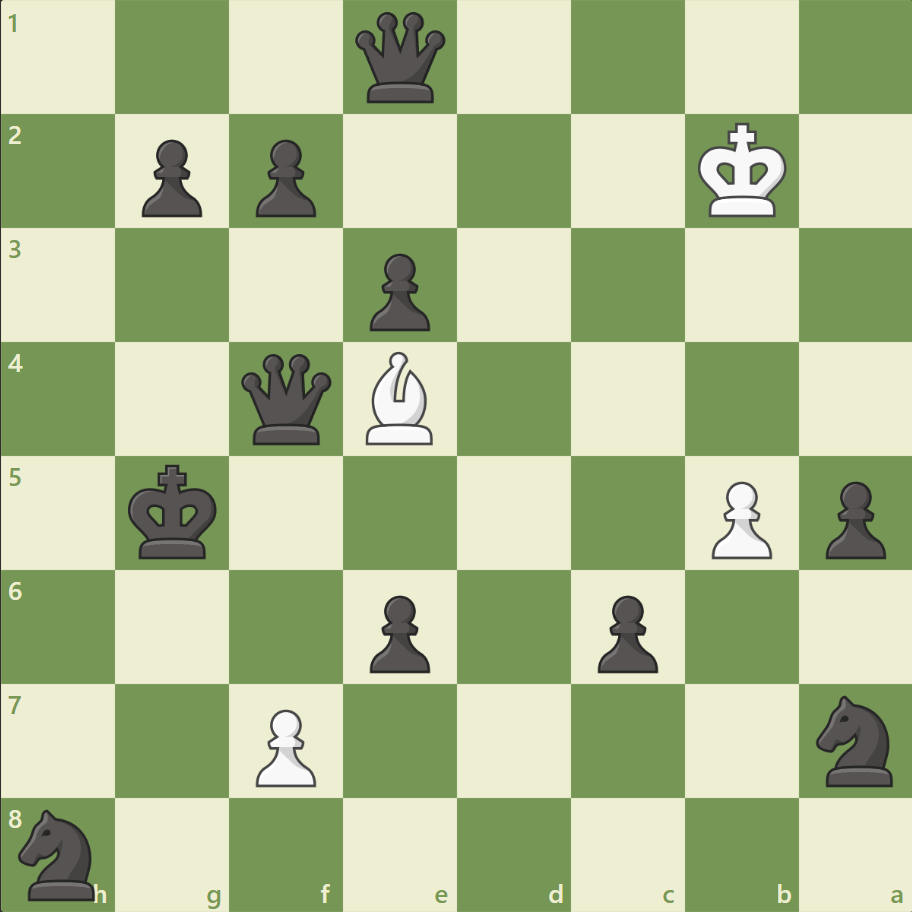B: (358, 347, 442, 449)
K: (692, 117, 792, 225)
P: (247, 700, 322, 791), (701, 473, 776, 564)
k: (124, 458, 224, 566)
n: (806, 688, 903, 791), (11, 802, 108, 904)
p: (247, 132, 322, 223), (133, 132, 208, 223), (588, 586, 662, 677), (361, 586, 435, 677), (815, 473, 889, 564), (361, 246, 435, 337)
q: (237, 349, 336, 449), (351, 9, 450, 108)
